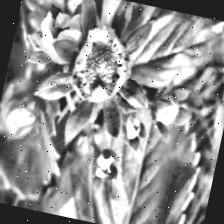Blossom Blight: (68, 24, 138, 107)
